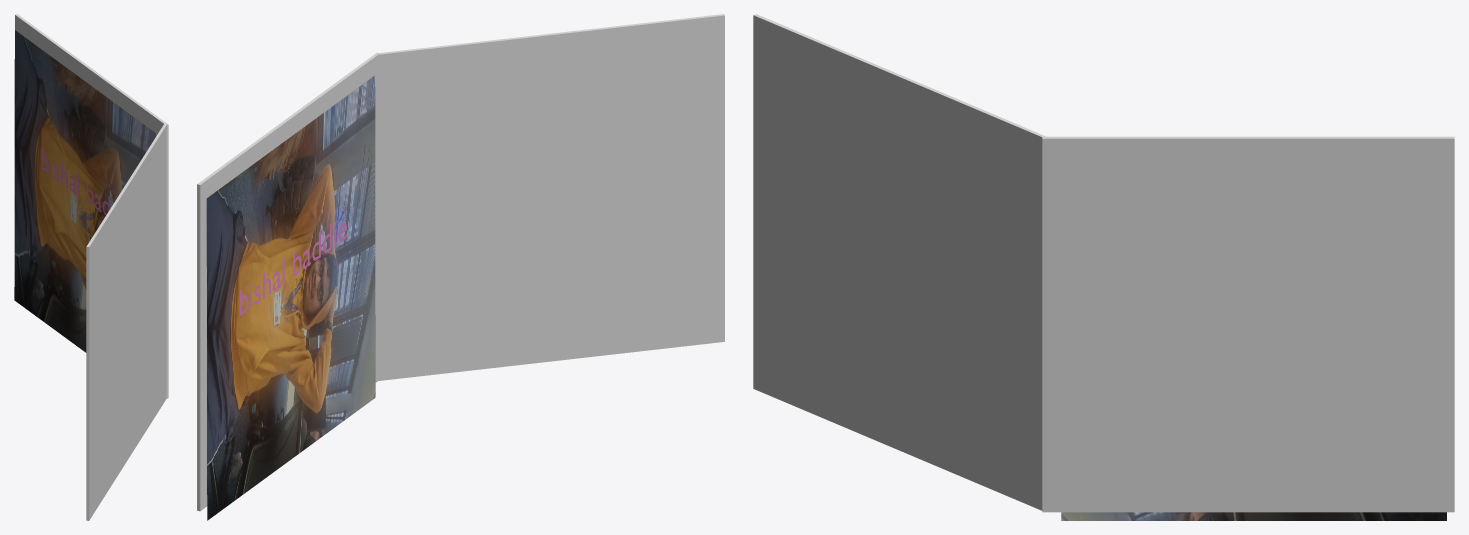
The model's file is testCard.glb.
3 renders of one model, left to right at view 1: azimuth 30°, elevation 25°; view 2: azimuth 150°, elevation 25°; view 3: azimuth 270°, elevation 25°, orthographic. The views are drawn at different scales.
Parts seen in each view (by area): view 1: Plane, Cube.001, Cube, Text; view 2: Cube.001, Plane, Cube, Text; view 3: Cube, Cube.001, Plane.
Part boxes in pixels (x1,y1,x2,y2): Plane: (14, 30, 155, 352); Cube.001: (86, 123, 166, 520); Cube: (15, 14, 168, 398); Text: (41, 147, 109, 215); Cube.001: (376, 14, 724, 380); Plane: (206, 75, 375, 520); Cube: (197, 52, 378, 511); Text: (239, 222, 346, 315); Cube: (1042, 136, 1454, 512); Cube.001: (753, 14, 1047, 510); Plane: (1061, 512, 1446, 520).
Bounding box in the file's own units: 14.29 × 20.68 × 34.01.
3 materials, 1 textured.
